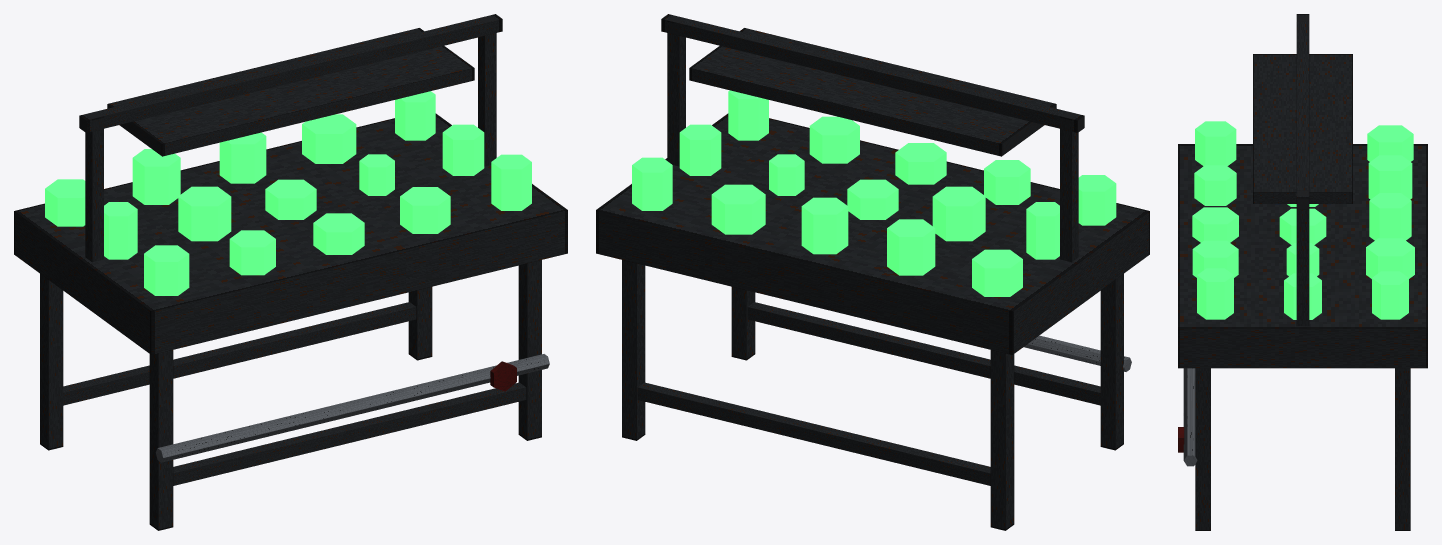
The model's file is hydroponic_tray_bed_command_bridge.glb.
3 views of the same model, side by side, from view 1: azimuth 30°, elevation 25°; view 2: azimuth 150°, elevation 25°; view 3: azimuth 270°, elevation 25° (orthographic). The views are drawn at different scales.
Parts seen in each view (by area): view 1: hydroponic_tray_bed_command_bridge; view 2: hydroponic_tray_bed_command_bridge; view 3: hydroponic_tray_bed_command_bridge.
Part boxes in pixels (x1,y1,x2,y2): hydroponic_tray_bed_command_bridge: [14, 14, 567, 530]; hydroponic_tray_bed_command_bridge: [596, 14, 1149, 530]; hydroponic_tray_bed_command_bridge: [1178, 14, 1427, 530].
Size of the model in its own units: 1.4 by 1.2 by 0.8.
Materials: 6 (6 with a texture image).
